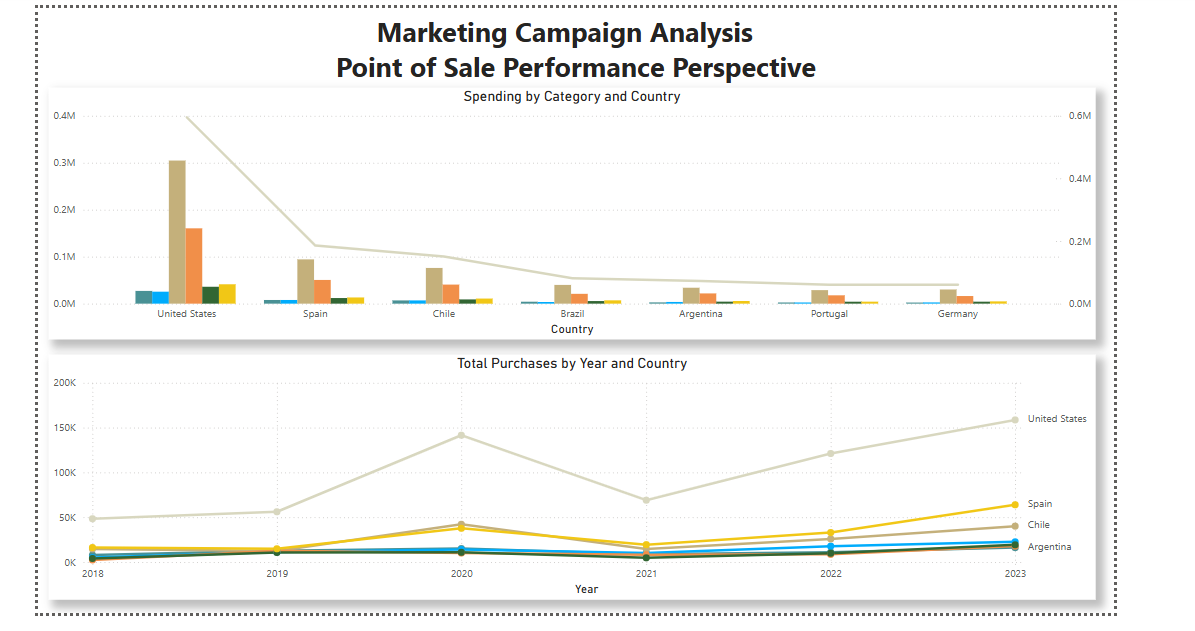

What the dashboard file says about the page in this screenshot:
{"tool":"powerbi","page":{"name":"Point of Sale Perspective","canvas":[1280,720],"ordinal":3},"visuals":[{"type":"textbox","box":[13.3,0,1246.7,110],"z":0},{"type":"lineClusteredColumnComboChart","title":"Spending by Category and Country","fields":{"Category":["MarketingData.Country"],"Y":["Sum(MarketingData.Gasto com Alimentos)","Sum(MarketingData.Gasto com Brinquedos)","Sum(MarketingData.Gasto com Eletronicos)","Sum(MarketingData.Gasto com Moveis)","Sum(MarketingData.Gasto com Utilidades)","Sum(MarketingData.Gasto com Vestuario)"],"Y2":["MarketingData.Total Purchases"]},"box":[13.3,95,1246.7,300],"z":1},{"type":"lineChart","fields":{"Y":["MarketingData.Total Purchases"],"Category":["MarketingData.Data Cadastro.Variation.Date Hierarchy.Year"],"Series":["MarketingData.Country"]},"box":[13.3,411.7,1246.7,291.7],"z":2}]}

Visuals, with their boxes in screenshot pixels (x1, y1, x2, y2):
textbox: box=[33, 0, 1112, 95]
"Spending by Category and Country" lineClusteredColumnComboChart: box=[33, 82, 1112, 342]
lineChart - MarketingData.Total Purchases x MarketingData.Data Cadastro.Variation.Date Hierarchy.Year: box=[33, 356, 1112, 609]
